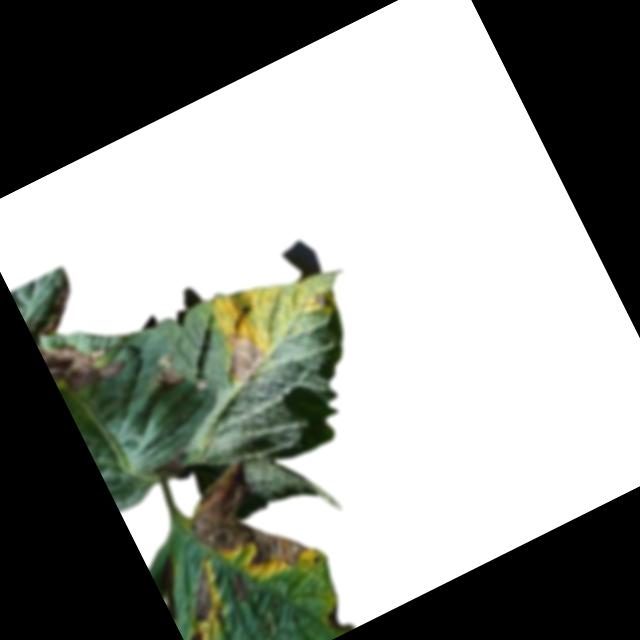Early_blight: (171, 446, 315, 604), (17, 275, 128, 403), (212, 322, 275, 389), (173, 561, 228, 626), (147, 353, 185, 393), (321, 598, 356, 638), (308, 285, 335, 313), (182, 628, 214, 640)
